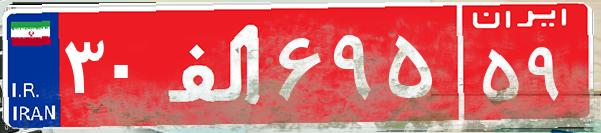0: (110, 28, 158, 105)
3: (57, 26, 110, 107)
5: (385, 28, 445, 110), (475, 38, 525, 113)
6: (273, 28, 330, 110)
9: (330, 28, 385, 110), (525, 38, 570, 115)
الف: (158, 15, 273, 115)
